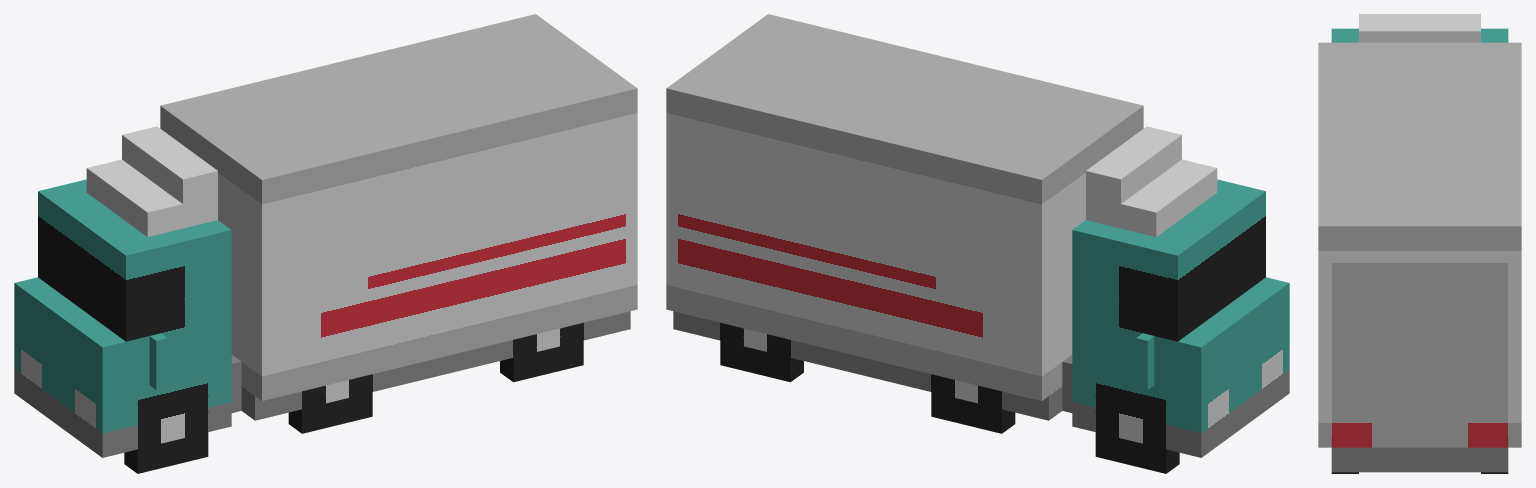
The model's file is veh_truck_green.dae.
3 views of the same model, side by side, from view 1: azimuth 30°, elevation 25°; view 2: azimuth 150°, elevation 25°; view 3: azimuth 270°, elevation 25° (orthographic).
Parts seen in each view (by area): view 1: veh_truck_green; view 2: veh_truck_green; view 3: veh_truck_green.
Boxes of the visible parts, bbox=[...] form: veh_truck_green: bbox=[14, 14, 637, 473]; veh_truck_green: bbox=[666, 14, 1289, 473]; veh_truck_green: bbox=[1318, 14, 1521, 473].
Bounding box in the file's own units: 4.5 × 2.2 × 1.5.
